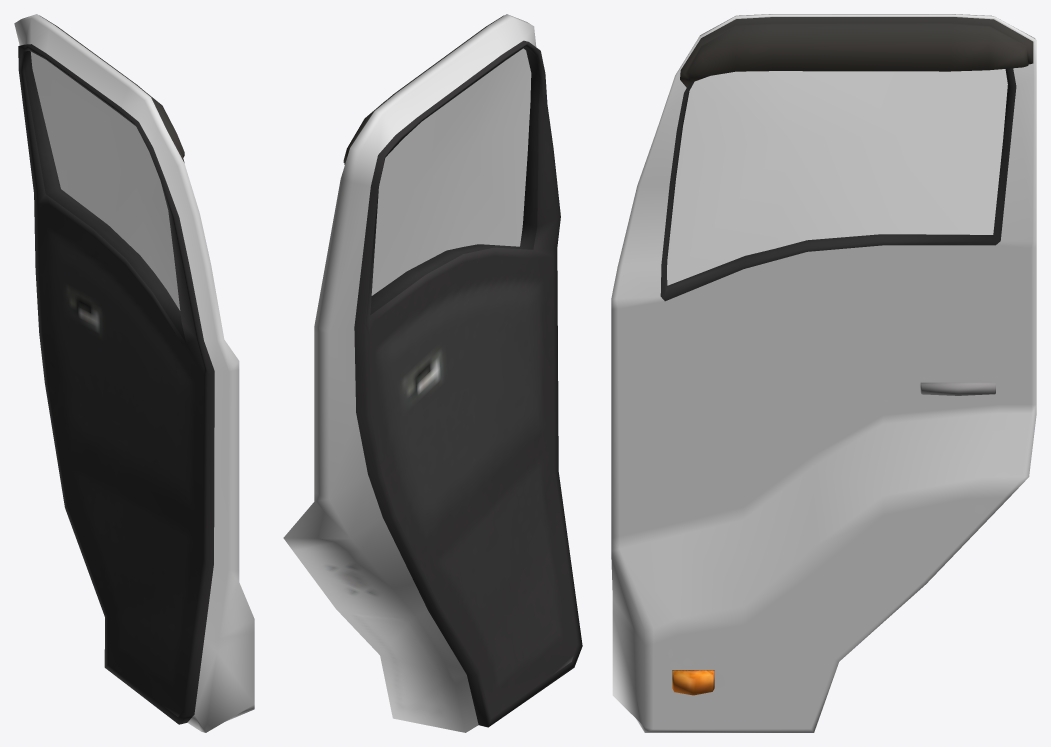
Rendered from truck_door_fl.obj.
The picture shows the model from 3 angles, left to right: view 1: azimuth 30°, elevation 25°; view 2: azimuth 150°, elevation 25°; view 3: azimuth 270°, elevation 25°; orthographic projection. The views are drawn at different scales.
Parts seen in each view (by area): view 1: door_FL_02; view 2: door_FL_02; view 3: door_FL_02.
Part boxes in pixels (box(x1,y1,x2,y2)): door_FL_02: box(14, 14, 254, 732); door_FL_02: box(283, 14, 582, 732); door_FL_02: box(611, 14, 1036, 732).
Size of the model in its own units: 0.331 by 1.97 by 1.11.
6 materials, 5 textured.
